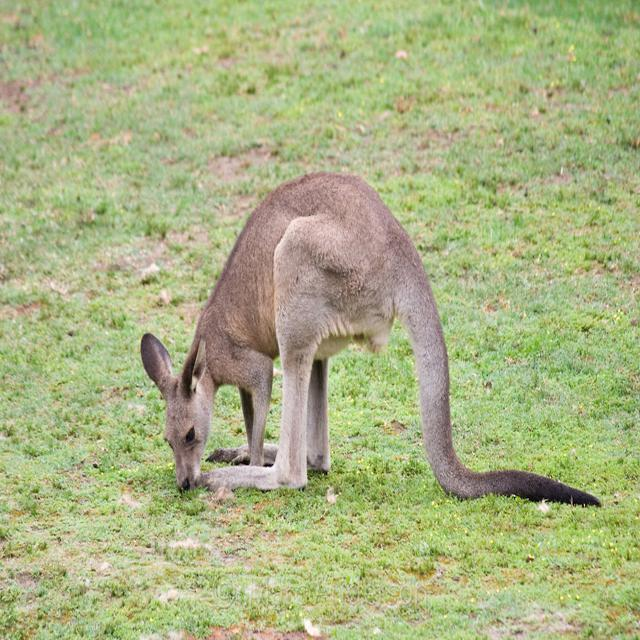kangaroo: (130, 168, 451, 482)
